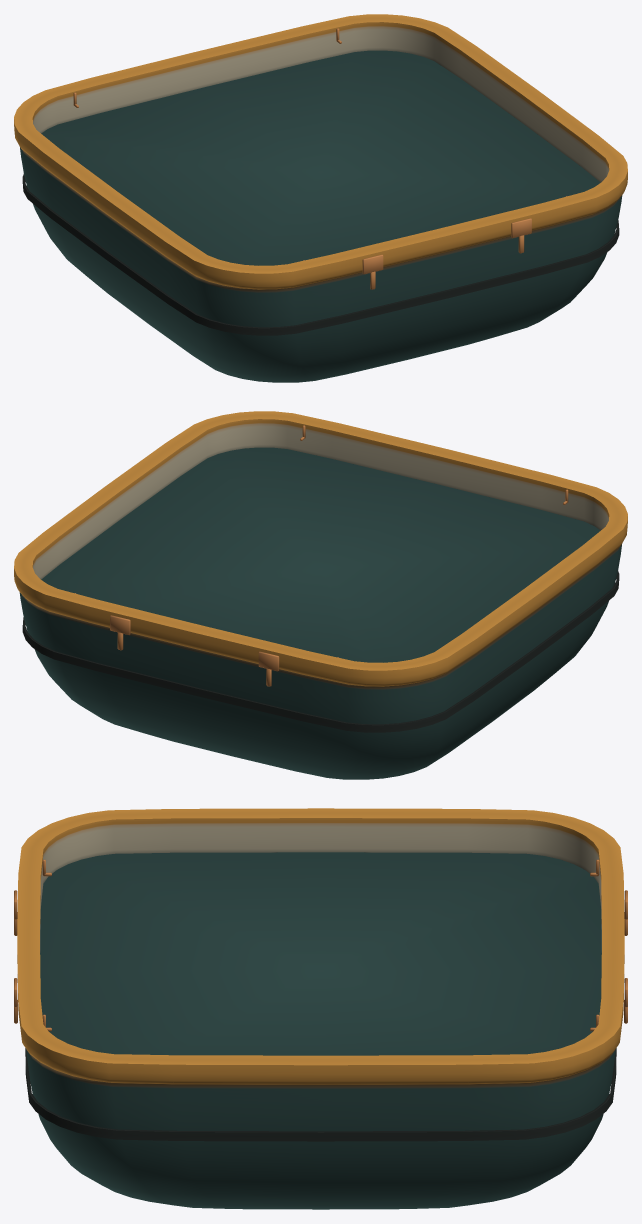
The model's file is barge.glb.
3 views of the same model, one above another, from view 1: azimuth 30°, elevation 25°; view 2: azimuth 150°, elevation 25°; view 3: azimuth 270°, elevation 25° (orthographic). The views are drawn at different scales.
Parts seen in each view (by area): view 1: Hull, Fittings; view 2: Hull, Fittings; view 3: Hull, Fittings.
Boxes of the visible parts, box(x1,y1,x2,y2) form: Hull: box(14, 14, 627, 382); Fittings: box(73, 28, 566, 289); Hull: box(14, 411, 627, 779); Fittings: box(75, 425, 568, 686); Hull: box(17, 808, 624, 1209); Fittings: box(14, 859, 627, 1031).
Size of the model in its own units: 15.24 by 5.55 by 15.4.
